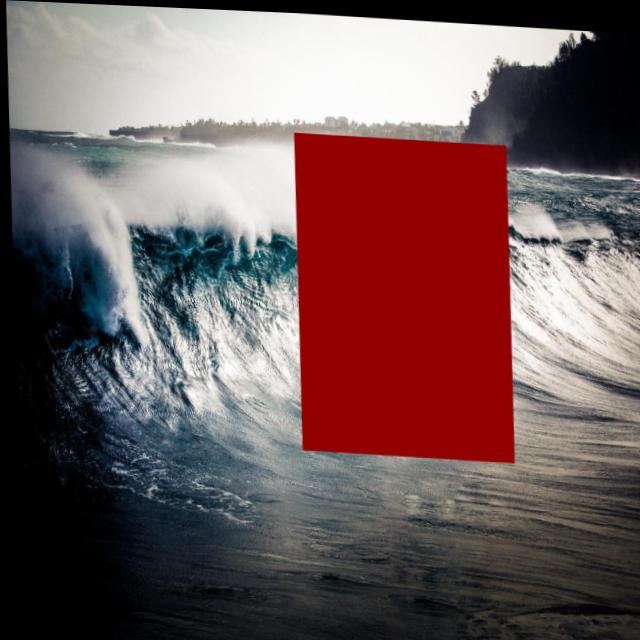RedSquare: (283, 122, 523, 465)
